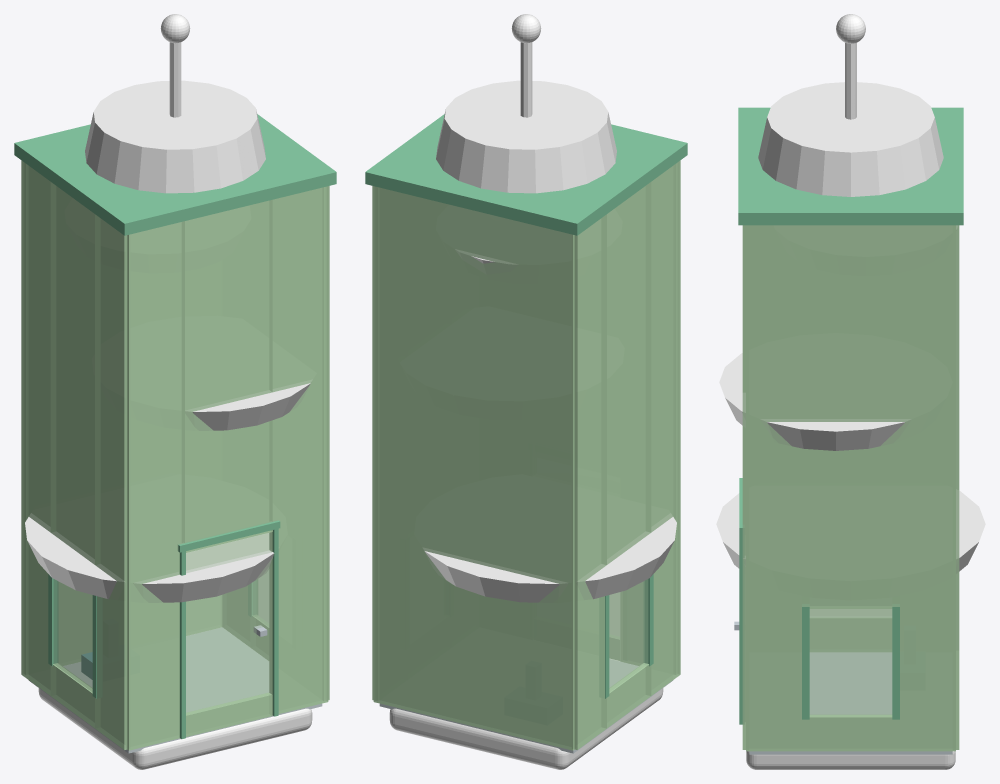
File: eco_tower.glb
3 renders of one model, left to right at view 1: azimuth 30°, elevation 25°; view 2: azimuth 150°, elevation 25°; view 3: azimuth 270°, elevation 25°, orthographic.
Visible parts, largest first — view 1: Shell_Front_Side_-1, Shell_Front_Side_1, Shell_Front_Header, Shell_Side_-1_End_1, Original_leaf_3, Shell_Side_-1_Header, Shell_Side_-1_End_-1, Shell_Real_Roof, Door_Main_Glass, Original_leaf, Walkable_Interior_Floor, Original_stone (+16 smaller); view 2: Shell_Back, Shell_Side_-1_End_-1, Original_leaf_3, Shell_Side_-1_Header, Shell_Side_-1_End_1, Shell_Real_Roof, Original_leaf, Original_stone, Window_Right_Glass, Shell_Front_Side_-1, Shell_Side_-1_Sill, Shell_Side_1_End_-1 (+6 smaller); view 3: Shell_Side_1_Header, Shell_Side_1_End_-1, Shell_Side_1_End_1, Original_leaf_3, Shell_Real_Roof, Window_Left_Glass, Walkable_Interior_Floor, Original_leaf_1, Shell_Side_1_Sill, Original_stone, Original_leaf, Shell_Side_-1_Sill (+8 smaller).
Part boxes in pixels (x1,y1,x2,y2): Shell_Front_Side_-1: [126, 221, 184, 750]; Shell_Front_Side_1: [269, 186, 328, 715]; Shell_Front_Header: [185, 200, 272, 552]; Shell_Side_-1_End_1: [95, 214, 129, 749]; Original_leaf_3: [85, 80, 265, 193]; Shell_Side_-1_Header: [50, 182, 94, 564]; Shell_Side_-1_End_-1: [21, 160, 50, 695]; Shell_Real_Roof: [14, 114, 336, 235]; Door_Main_Glass: [186, 532, 271, 715]; Original_leaf: [25, 513, 274, 602]; Walkable_Interior_Floor: [29, 627, 322, 753]; Original_stone: [38, 688, 312, 769]; Shell_Back: [373, 186, 575, 750]; Shell_Side_-1_End_-1: [572, 214, 606, 749]; Original_leaf_3: [436, 80, 616, 193]; Shell_Side_-1_Header: [607, 182, 651, 564]; Shell_Side_-1_End_1: [651, 160, 680, 695]; Shell_Real_Roof: [365, 114, 687, 235]; Original_leaf: [423, 513, 676, 602]; Original_stone: [389, 688, 663, 769]; Window_Right_Glass: [609, 579, 647, 691]; Shell_Front_Side_-1: [620, 582, 676, 674]; Shell_Side_-1_Sill: [607, 663, 651, 728]; Shell_Side_1_End_-1: [372, 186, 378, 700]; Shell_Side_1_Header: [805, 225, 896, 608]; Shell_Side_1_End_-1: [896, 225, 955, 751]; Shell_Side_1_End_1: [746, 225, 805, 751]; Original_leaf_3: [758, 82, 943, 196]; Shell_Real_Roof: [738, 107, 963, 225]; Window_Left_Glass: [809, 609, 892, 716]; Walkable_Interior_Floor: [749, 652, 952, 754]; Original_leaf_1: [719, 353, 910, 450]; Shell_Side_1_Sill: [805, 715, 896, 751]; Original_stone: [746, 751, 955, 769]; Original_leaf: [716, 490, 985, 573]; Shell_Side_-1_Sill: [810, 618, 891, 651].
Bounding box in the file's own units: 2.01 × 5.26 × 1.8.
